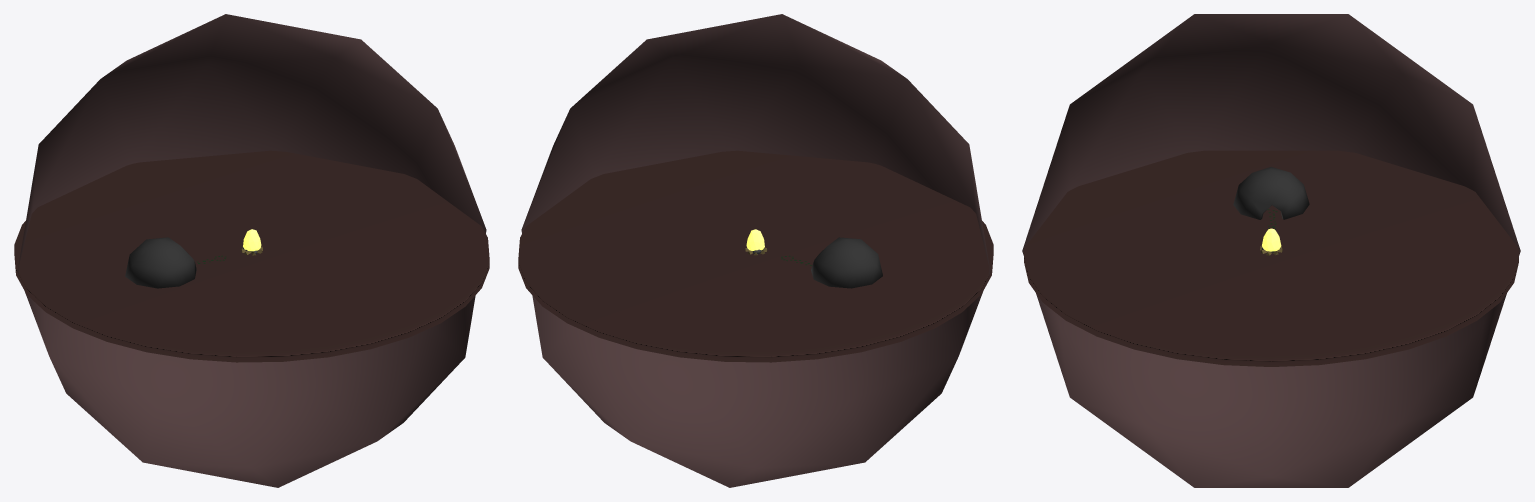
The picture shows the model from 3 angles, left to right: view 1: azimuth 30°, elevation 25°; view 2: azimuth 150°, elevation 25°; view 3: azimuth 270°, elevation 25°; orthographic projection. The views are drawn at different scales.
Visible parts, largest first — view 1: envirosphere.008, ground.010, lodge.008; view 2: envirosphere.008, ground.010, lodge.008; view 3: envirosphere.008, ground.010, lodge.008.
Boxes of the visible parts, x1,y1,x2,y2 form: envirosphere.008: (17,14,486,487); ground.010: (14,150,489,362); lodge.008: (125,237,196,288); envirosphere.008: (521,14,990,487); ground.010: (518,150,993,362); lodge.008: (811,237,882,288); envirosphere.008: (1022,14,1520,487); ground.010: (1024,150,1518,366); lodge.008: (1233,167,1309,219).
Bounding box in the file's own units: 13.58 × 13.69 × 13.69.
